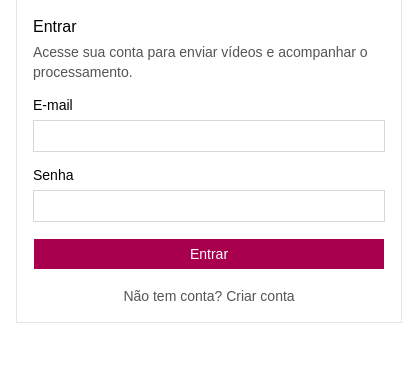
Scenario: LoginForm › mostra erro de e-mail para um formato inválido
In the field labelled "E-mail": (209, 136) [33,120,385,152], type "nao-e-um-email"
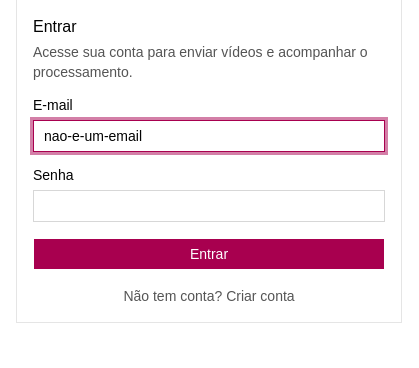
In the password field labelled "Senha": (209, 206) [33,190,385,222], type "qualquer-senha"
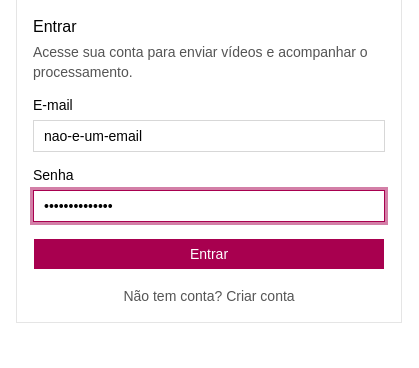
Click the button "Entrar": (209, 254) [33,238,385,270]
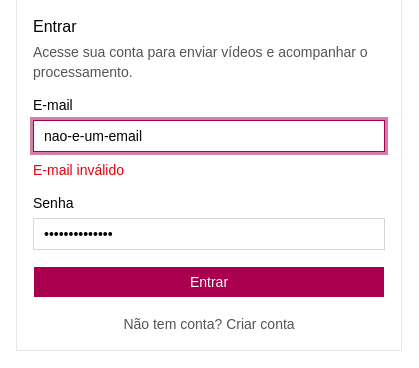
Expected: the text "E-mail inválido" is shown, [33,162,124,178]
